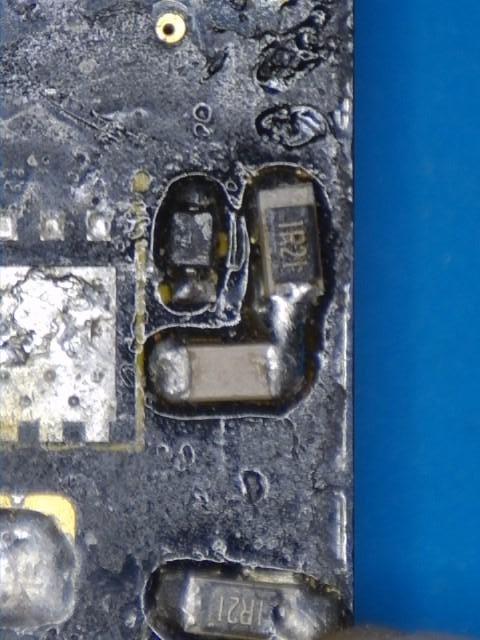pcb_defect: (249, 177, 325, 318), (251, 285, 318, 401)
